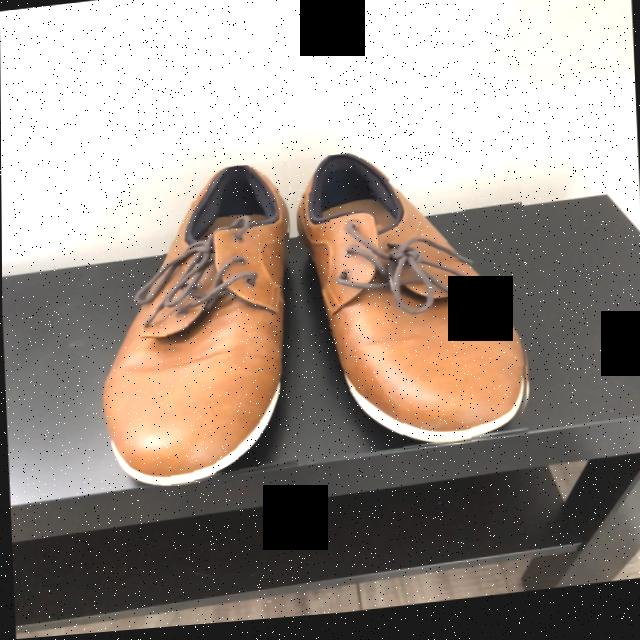shoe: (296, 159, 527, 453), (152, 169, 289, 489)
